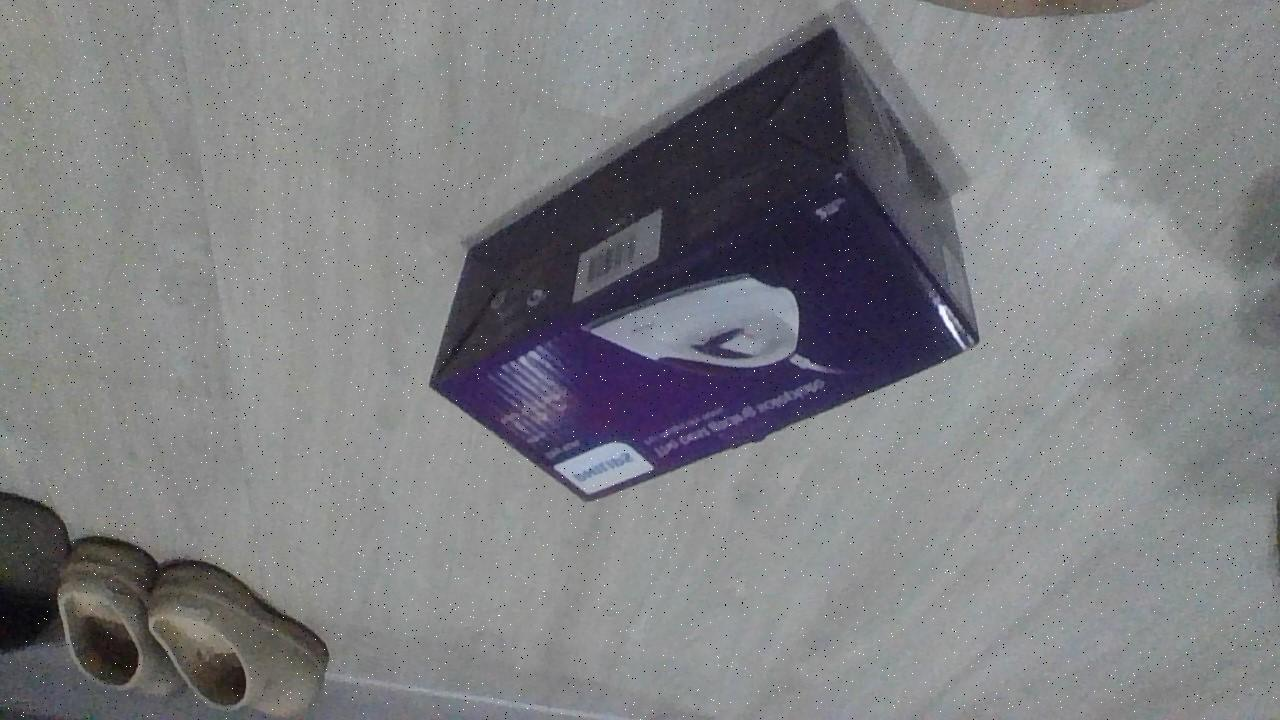IRON: (424, 24, 983, 507)
